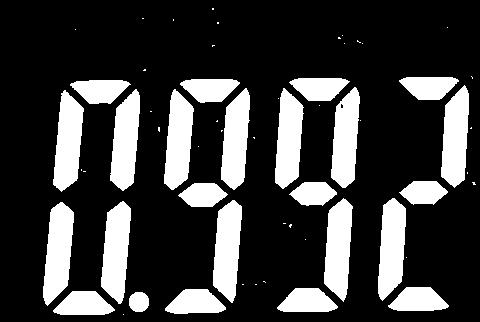0: (40, 75, 142, 320)
2: (378, 74, 470, 313)
9: (162, 74, 253, 317), (273, 77, 362, 313)
dot: (127, 287, 154, 316)
